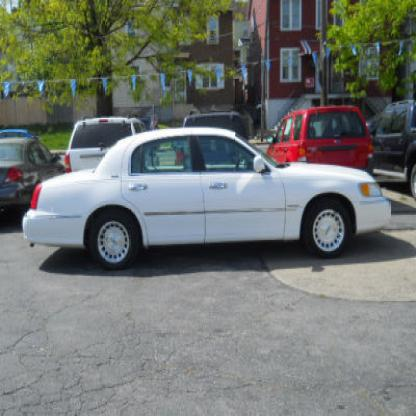Vehicle: (21, 119, 389, 258)
